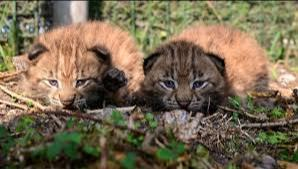Non_Gorille: (24, 12, 276, 144)
